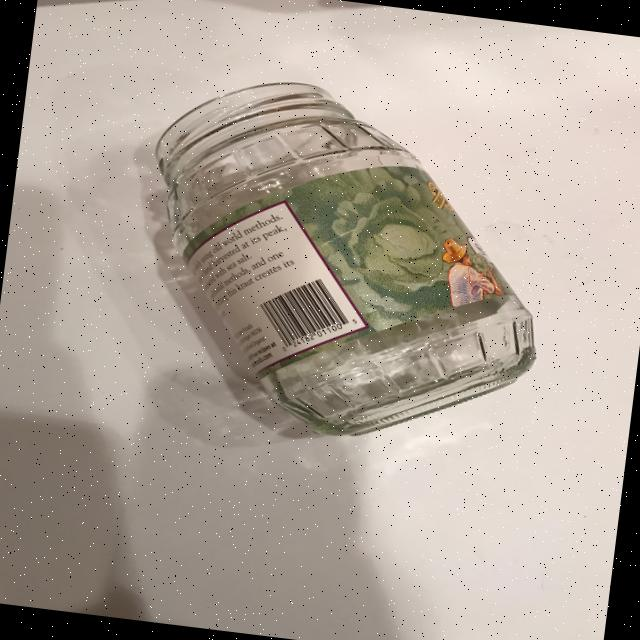glass: (121, 65, 566, 460)
